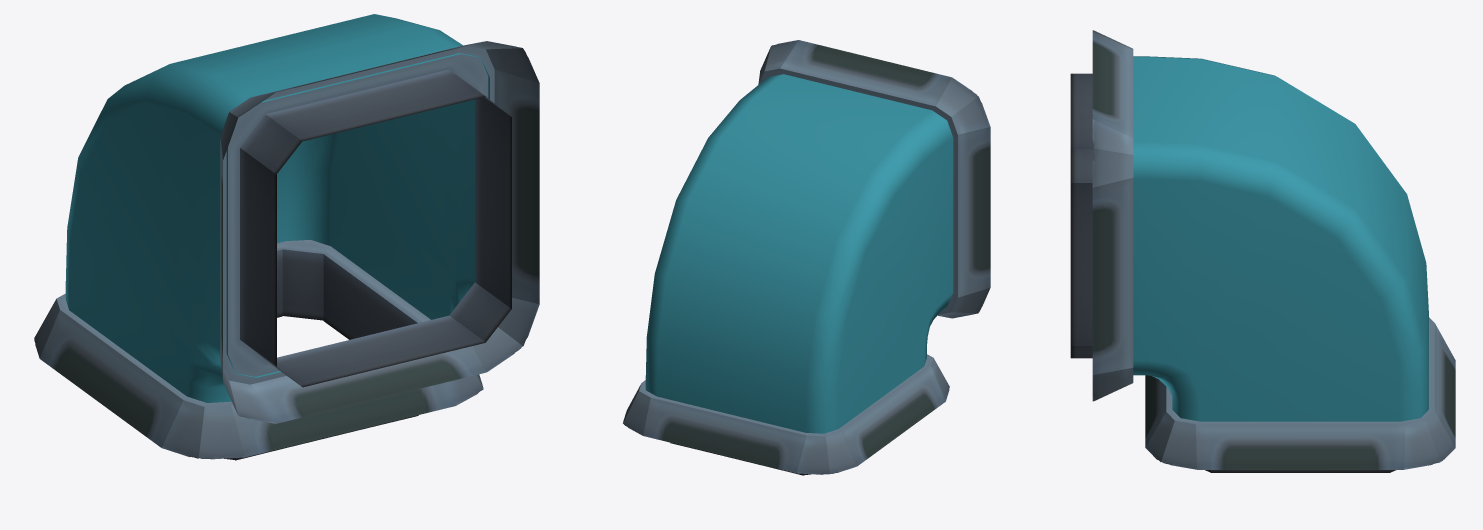
The model's file is obj_interactive_pipebend.fbx.
3 views of the same model, side by side, from view 1: azimuth 30°, elevation 25°; view 2: azimuth 150°, elevation 25°; view 3: azimuth 270°, elevation 25° (orthographic). The views are drawn at different scales.
Parts seen in each view (by area): view 1: obj_interactive_pipe_bend; view 2: obj_interactive_pipe_bend; view 3: obj_interactive_pipe_bend.
Boxes of the visible parts, x1,y1,x2,y2 form: obj_interactive_pipe_bend: (34,14,539,460); obj_interactive_pipe_bend: (623,40,990,475); obj_interactive_pipe_bend: (1070,30,1455,472).
Bounding box in the file's own units: 2 × 2.5 × 2.5.
